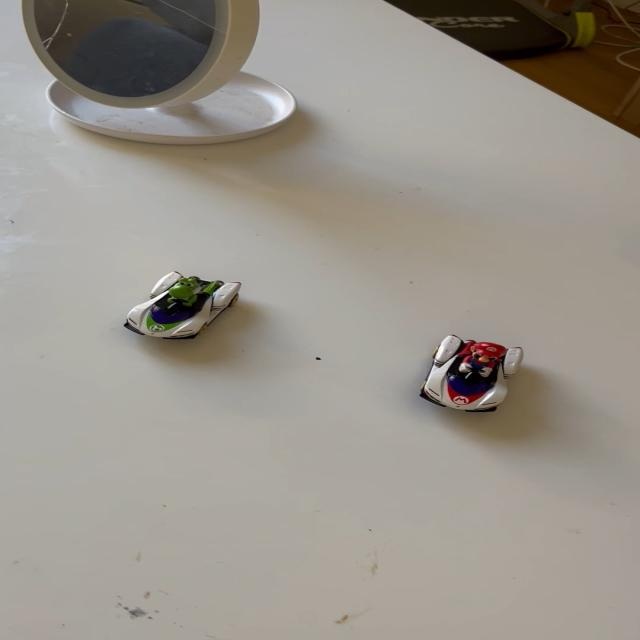mario: (404, 326, 534, 418)
yoshi: (112, 264, 260, 348)
